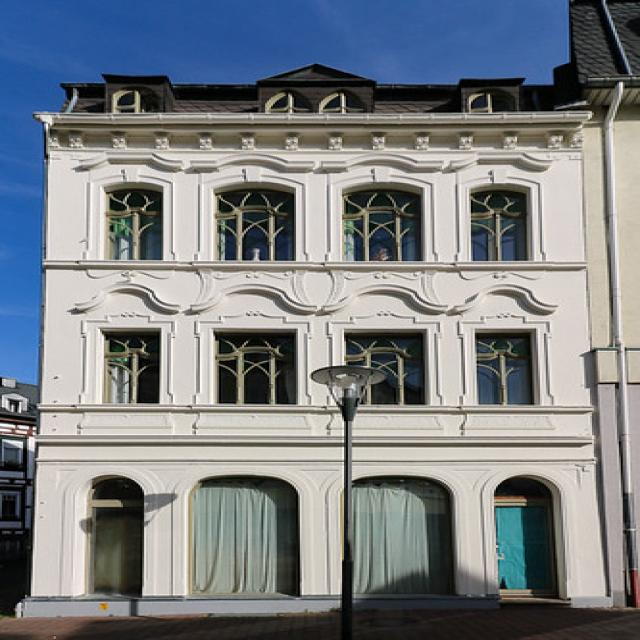building: (16, 57, 636, 624)
